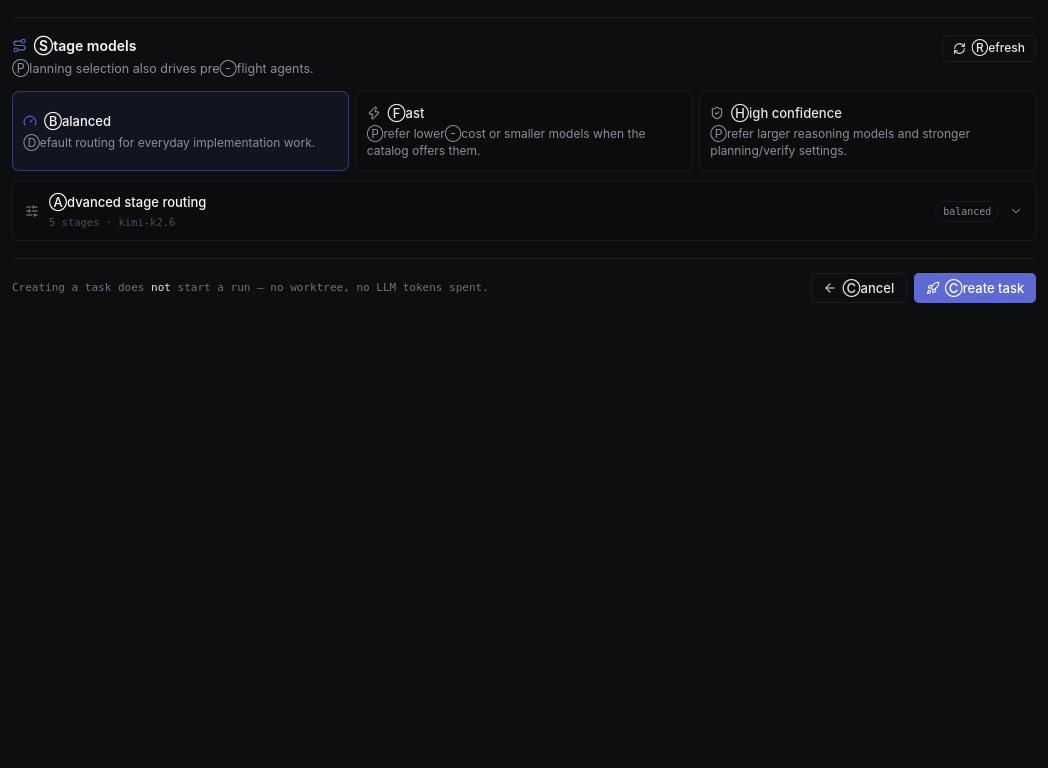
Test: StageModelSelector › renders one provider/model control for each workflow stage
Click the button "Advanced stage routing 5 stages · kimi-k2.6 balanced".
click(128, 202)  # box [13,182,1035,240]
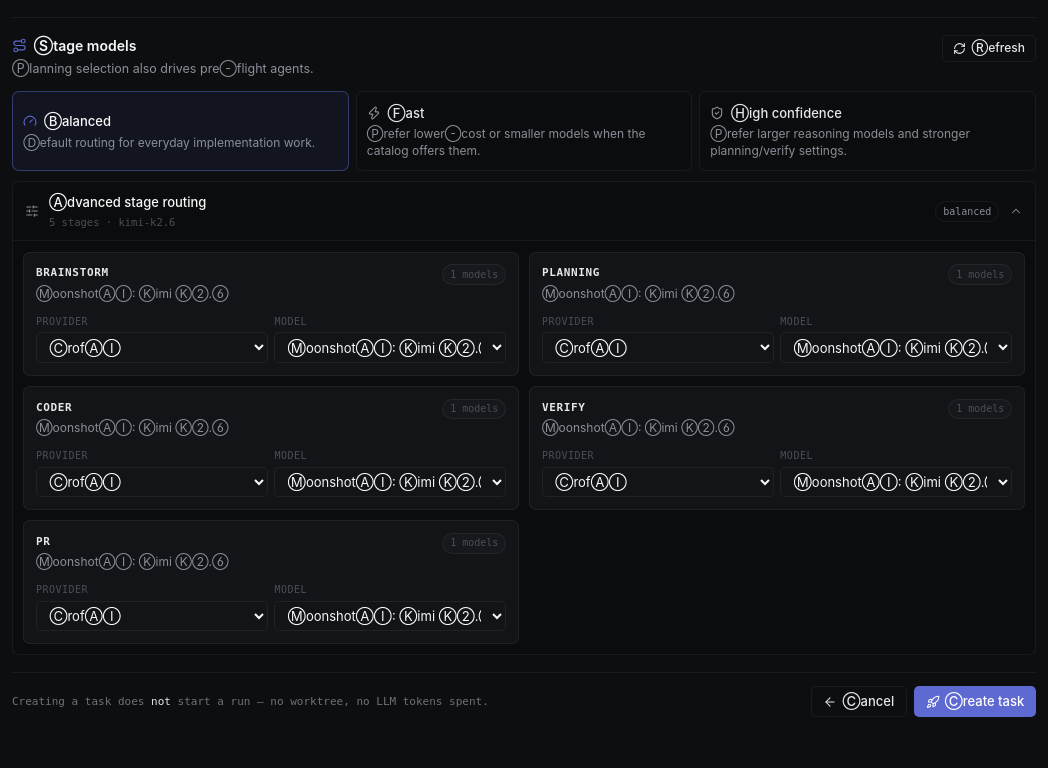
Expected: the heading "Brainstorm" is shown, [36,266,109,279]
Expected: the heading "Planning" is shown, [542,266,600,279]
Expected: the heading "Coder" is shown, [36,400,72,414]
